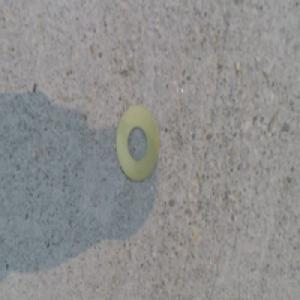Washer: (115, 105, 159, 184)
